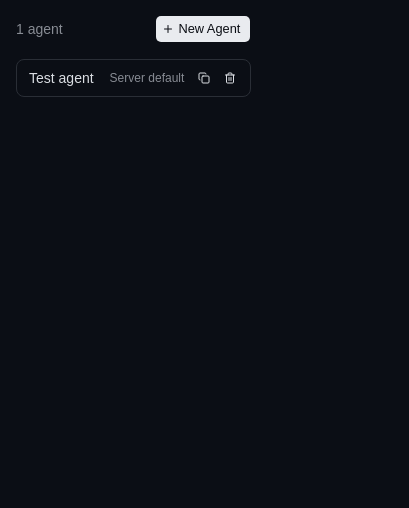
reports an empty tool selection as 0 tools instead of defaults
Click the text "Test agent": click(61, 78) x1=29 y1=68 x2=94 y2=88
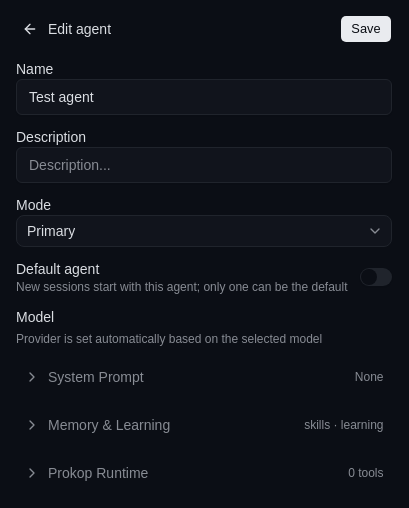
Expected: the button "Prokop Runtime 0 tools" does not show "Defaults", x1=16 y1=455 x2=392 y2=491
Expected: the button "Prokop Runtime 0 tools" is shown, x1=16 y1=455 x2=392 y2=491
